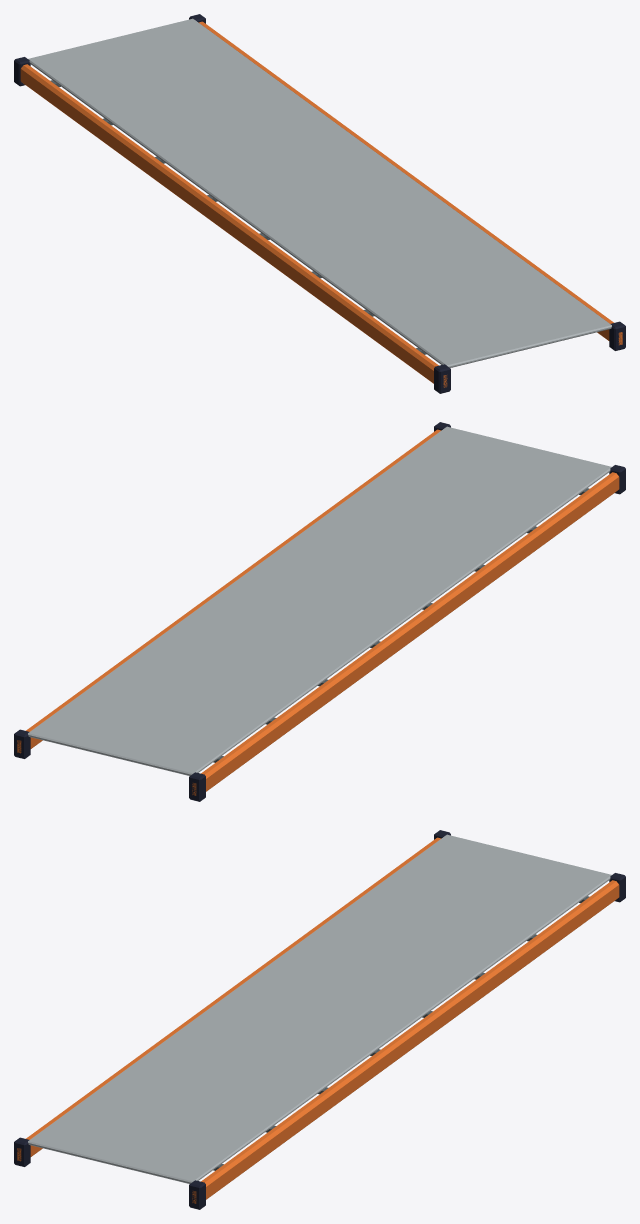
File: sm_env_depot_rack_beam_level.glb
3 renders of one model, top to bottom at view 1: azimuth 30°, elevation 25°; view 2: azimuth 150°, elevation 25°; view 3: azimuth 330°, elevation 25°, orthographic.
Visible parts, largest first — view 1: Deck, Beam, Beam.001; view 2: Deck, Beam, Beam.001; view 3: Deck, Beam.001, Beam.
Part boxes in pixels (<box>): Deck: <box>28,18,611,367</box>; Beam: <box>20,64,447,387</box>; Beam.001: <box>198,21,622,345</box>; Deck: <box>28,426,611,775</box>; Beam: <box>192,472,619,795</box>; Beam.001: <box>17,429,441,753</box>; Deck: <box>28,834,611,1183</box>; Beam.001: <box>192,880,619,1203</box>; Beam: <box>17,837,441,1161</box>.
Bounding box in the file's own units: 1.39 × 0.17 × 5.48.
